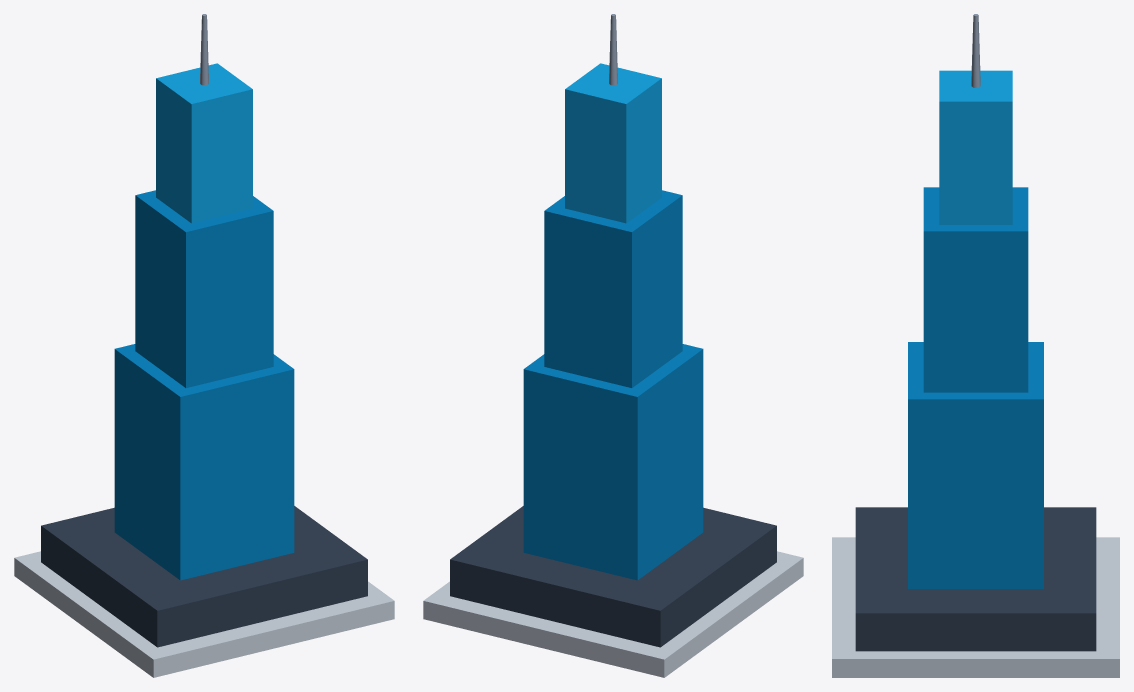
The model's file is bld_c3_cell_32.glb.
3 renders of one model, left to right at view 1: azimuth 30°, elevation 25°; view 2: azimuth 150°, elevation 25°; view 3: azimuth 270°, elevation 25°, orthographic. The views are drawn at different scales.
Parts seen in each view (by area): view 1: Bld_C3_Cell_32_BespokeLandmark; view 2: Bld_C3_Cell_32_BespokeLandmark; view 3: Bld_C3_Cell_32_BespokeLandmark.
Boxes of the visible parts, <box> form: Bld_C3_Cell_32_BespokeLandmark: <box>14,14,394,677</box>; Bld_C3_Cell_32_BespokeLandmark: <box>423,14,803,677</box>; Bld_C3_Cell_32_BespokeLandmark: <box>832,14,1119,677</box>.
Bounding box in the file's own units: 0.55 × 1.27 × 0.55.
